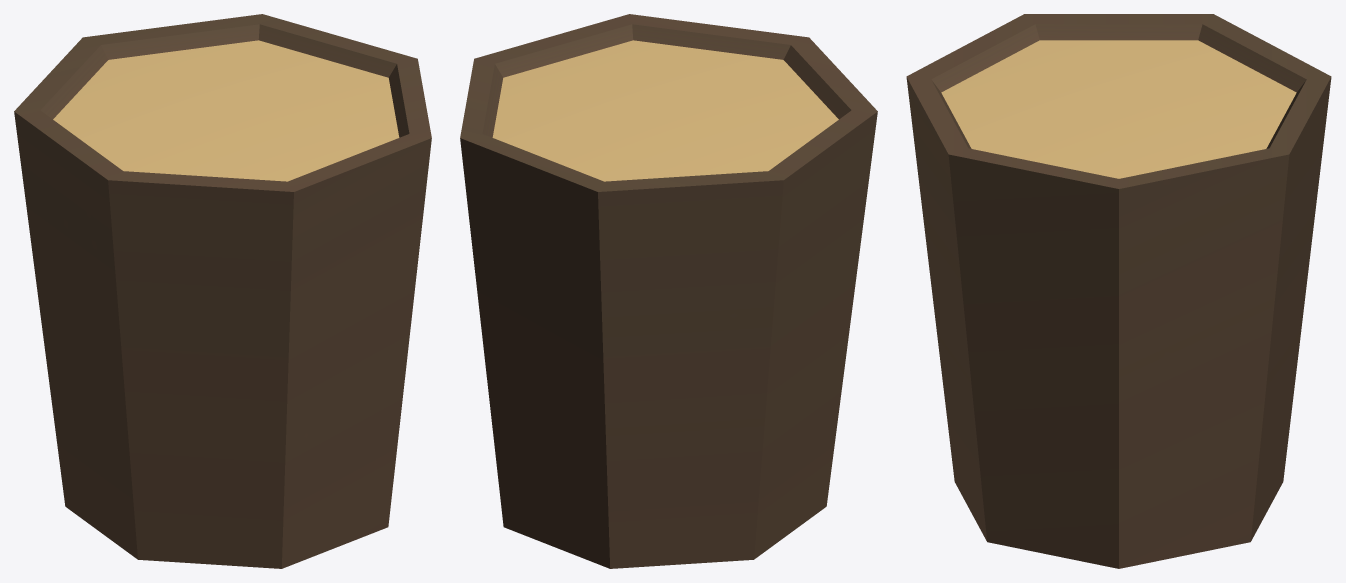
The model's file is Cup_4.fbx.
The picture shows the model from 3 angles, left to right: view 1: azimuth 30°, elevation 25°; view 2: azimuth 150°, elevation 25°; view 3: azimuth 270°, elevation 25°; orthographic projection.
Visible parts, largest first — view 1: polySurface1514; view 2: polySurface1514; view 3: polySurface1514.
Boxes of the visible parts, left/top/right/bottom form: polySurface1514: left=14, top=14, right=431, bottom=568; polySurface1514: left=460, top=14, right=877, bottom=568; polySurface1514: left=906, top=14, right=1331, bottom=568.
Size of the model in its own units: 15.21 by 16.18 by 15.6.
